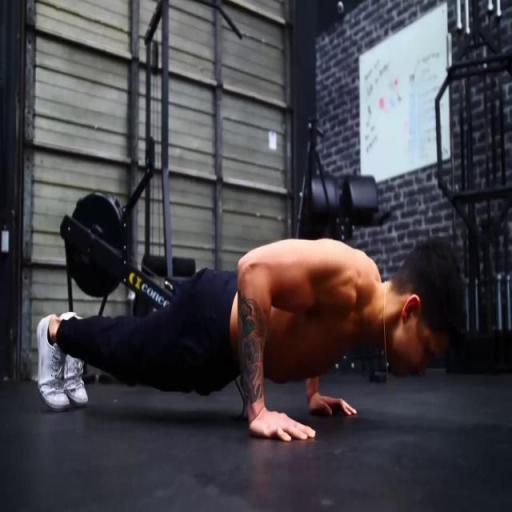Normal_BrenchPress: (39, 236, 467, 444)
